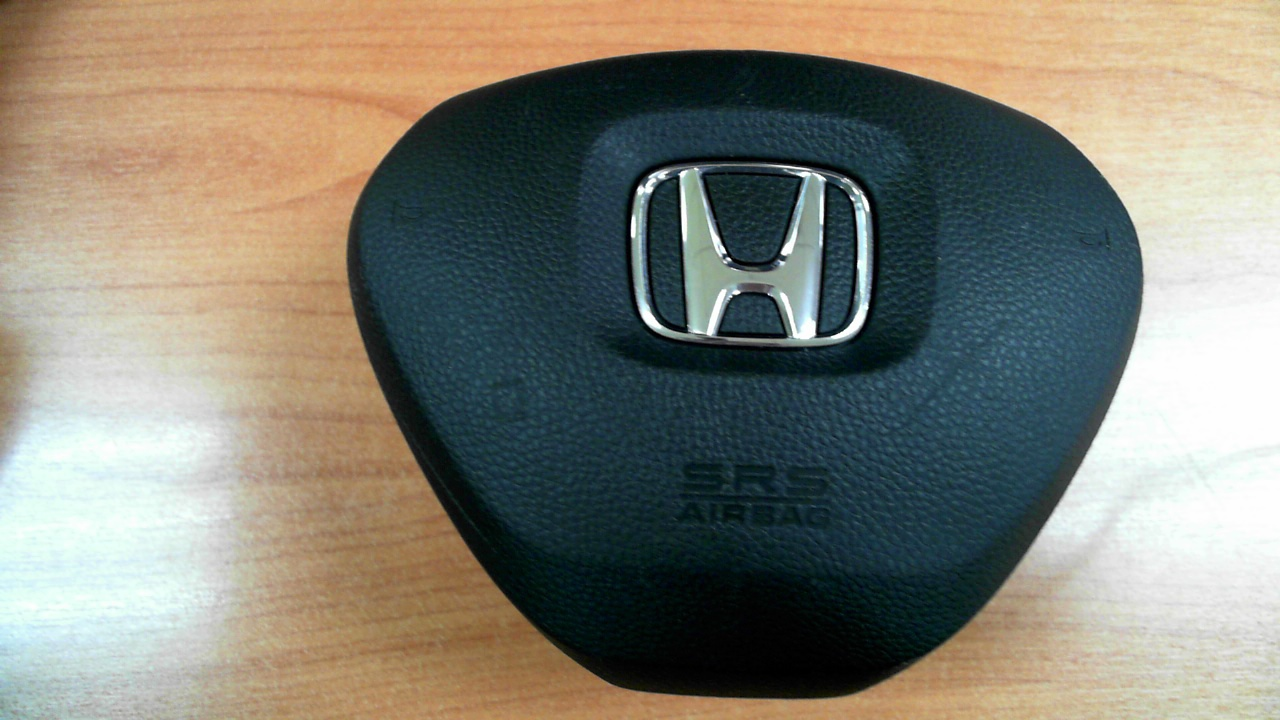Airbag: (345, 49, 1144, 701)
Honda: (630, 163, 874, 348)
